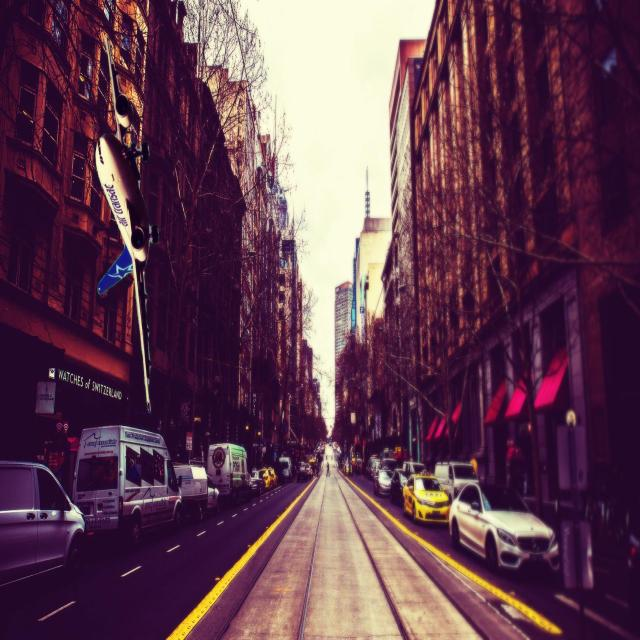airplane: (90, 38, 152, 414)
